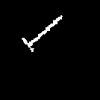double_crochet: (22, 16, 61, 51)
